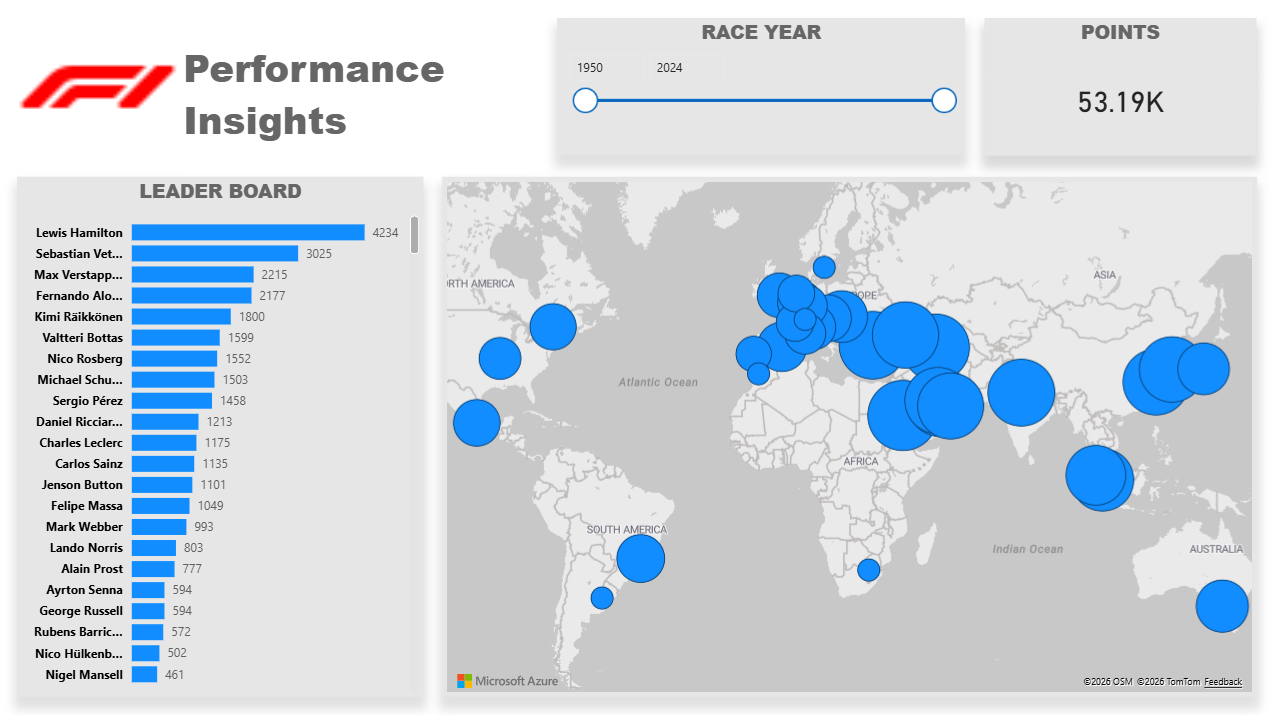

The page's visual inventory and layout, read from the dashboard file:
{"tool":"powerbi","page":{"name":"Page 1","canvas":[1280,720],"ordinal":0},"visuals":[{"type":"card","title":"POINTS","fields":{"Values":["vw_PowerBI_F1_Performance.Points"]},"box":[988,20.6,271.7,137.2],"z":0},{"type":"azureMap","title":"MAP VIE","fields":{"Category":["vw_PowerBI_F1_Performance.Country"],"Y":["vw_PowerBI_F1_Performance.lat"],"X":["vw_PowerBI_F1_Performance.lng"],"Size":["vw_PowerBI_F1_Performance.Fastest_Lap_Speed"]},"box":[445,178.3,815,520],"z":1000},{"type":"clusteredBarChart","title":"LEADER BOARD","fields":{"Category":["vw_PowerBI_F1_Performance.Driver_Name"],"Y":["vw_PowerBI_F1_Performance.Points"]},"box":[20,178.3,406.7,520],"z":1001},{"type":"slicer","title":"RACE YEAR","fields":{"Values":["vw_PowerBI_F1_Performance.Race_Year"]},"box":[560,20,408.3,136.7],"z":1002},{"type":"textbox","box":[181.7,38.3,346.7,136.7],"z":1003},{"type":"image","box":[20,0,161.7,175],"z":1005}]}

Visuals, with their boxes in screenshot pixels (x1, y1, x2, y2), scaled from the page's 1280x720 canvas onto the 1275x715 screenshot:
"POINTS" card: (left=984, top=20, right=1255, bottom=157)
"MAP VIE" azureMap: (left=443, top=177, right=1255, bottom=693)
"LEADER BOARD" clusteredBarChart: (left=20, top=177, right=425, bottom=693)
"RACE YEAR" slicer: (left=558, top=20, right=965, bottom=156)
textbox: (left=181, top=38, right=526, bottom=174)
image: (left=20, top=0, right=181, bottom=174)
